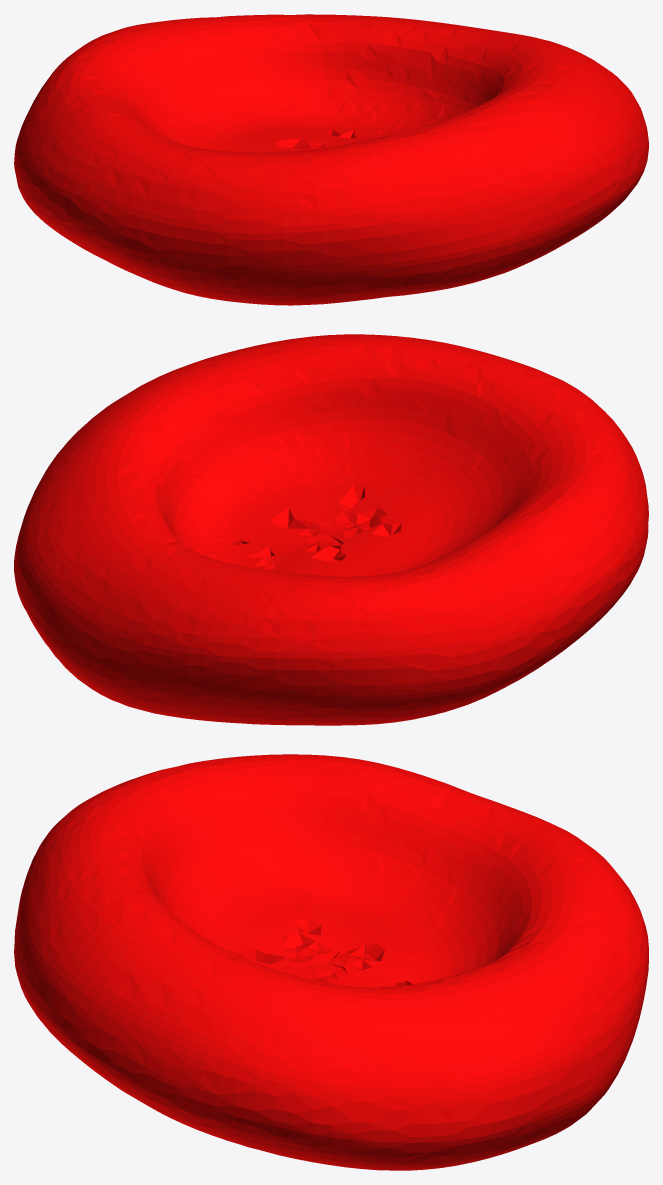
Rendered from 红血球.obj.
3 renders of one model, top to bottom at view 1: azimuth 30°, elevation 25°; view 2: azimuth 150°, elevation 25°; view 3: azimuth 270°, elevation 25°, orthographic. The views are drawn at different scales.
Visible parts, largest first — view 1: VRayProxy007; view 2: VRayProxy007; view 3: VRayProxy007.
Boxes of the visible parts, box(x1,y1,x2,y2) form: VRayProxy007: box(14, 14, 648, 305); VRayProxy007: box(14, 334, 648, 725); VRayProxy007: box(14, 754, 648, 1170).
Bounding box in the file's own units: 69.53 × 24.84 × 65.03.
